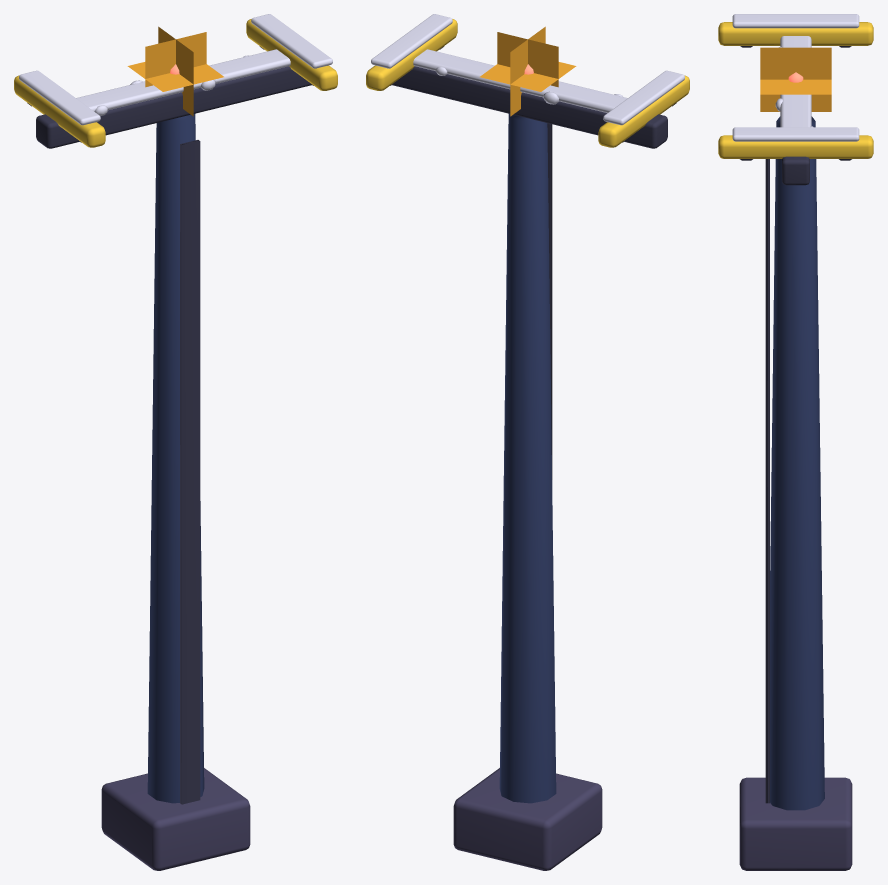
Rendered from frost_gondola_tower.glb.
The picture shows the model from 3 angles, left to right: view 1: azimuth 30°, elevation 25°; view 2: azimuth 150°, elevation 25°; view 3: azimuth 270°, elevation 25°; orthographic projection.
Parts seen in each view (by area): view 1: GTTower; view 2: GTTower; view 3: GTTower.
Boxes of the visible parts, bbox=[...] form: GTTower: bbox=[14, 14, 337, 870]; GTTower: bbox=[366, 14, 689, 870]; GTTower: bbox=[718, 14, 873, 870].
Size of the model in its own units: 4.4 by 12.55 by 2.2.
